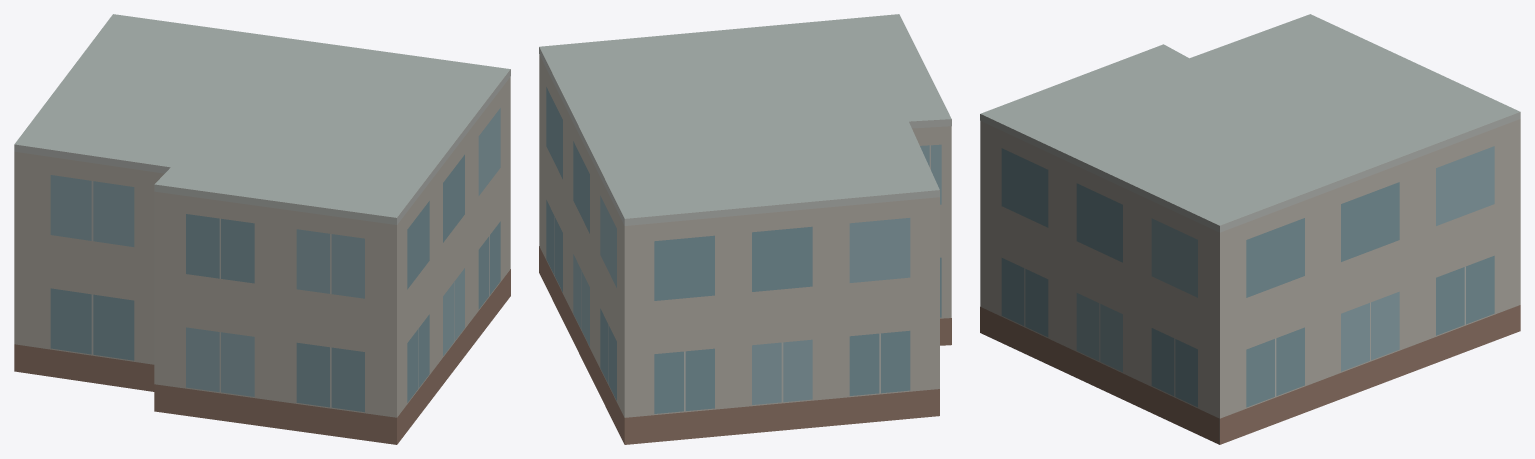
The model's file is survey-upis-32638893.glb.
3 views of the same model, side by side, from view 1: azimuth 30°, elevation 25°; view 2: azimuth 150°, elevation 25°; view 3: azimuth 270°, elevation 25° (orthographic). The views are drawn at different scales.
Parts seen in each view (by area): view 1: survey-upis-32638893.tmp; view 2: survey-upis-32638893.tmp; view 3: survey-upis-32638893.tmp.
Part boxes in pixels (x1,y1,x2,y2): survey-upis-32638893.tmp: [14, 14, 510, 444]; survey-upis-32638893.tmp: [539, 14, 951, 444]; survey-upis-32638893.tmp: [980, 14, 1520, 444].
Size of the model in its own units: 15.97 by 7.7 by 17.22.
